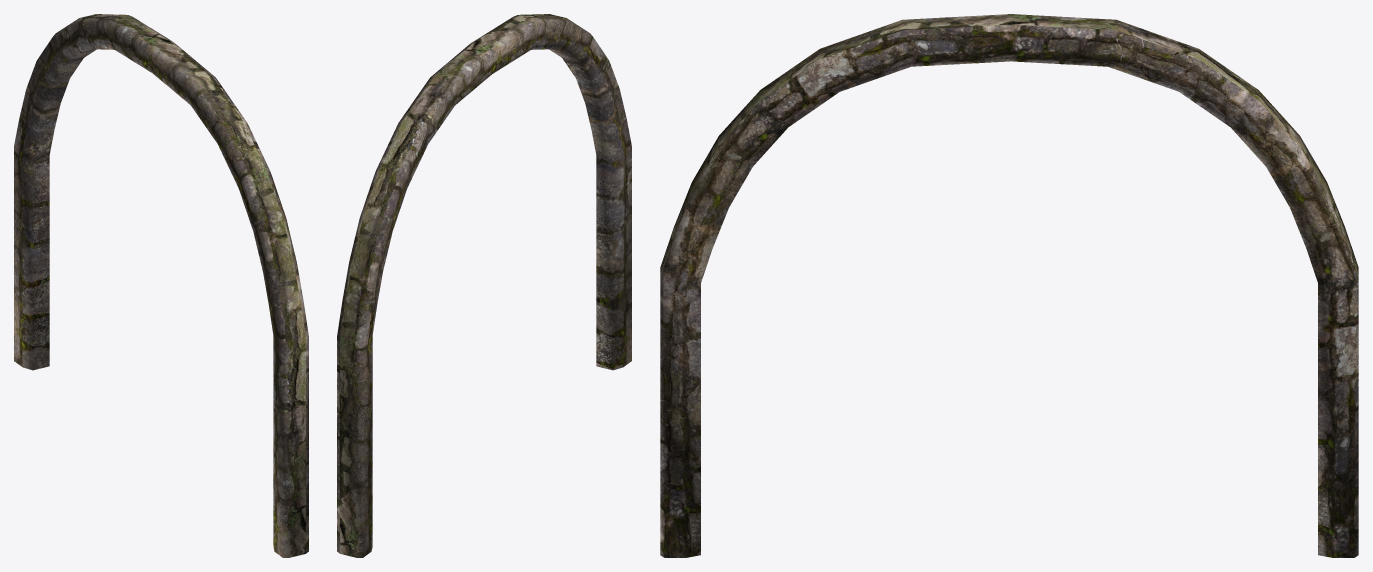
The model's file is Tunnel_Arc.FBX.
3 views of the same model, side by side, from view 1: azimuth 30°, elevation 25°; view 2: azimuth 150°, elevation 25°; view 3: azimuth 270°, elevation 25° (orthographic). The views are drawn at different scales.
Visible parts, largest first — view 1: Tunnel_Arc; view 2: Tunnel_Arc; view 3: Tunnel_Arc.
Boxes of the visible parts, box(x1,y1,x2,y2) form: Tunnel_Arc: box(14, 14, 308, 557); Tunnel_Arc: box(337, 14, 631, 557); Tunnel_Arc: box(660, 14, 1358, 557).
Size of the model in its own units: 20 by 305 by 364.
